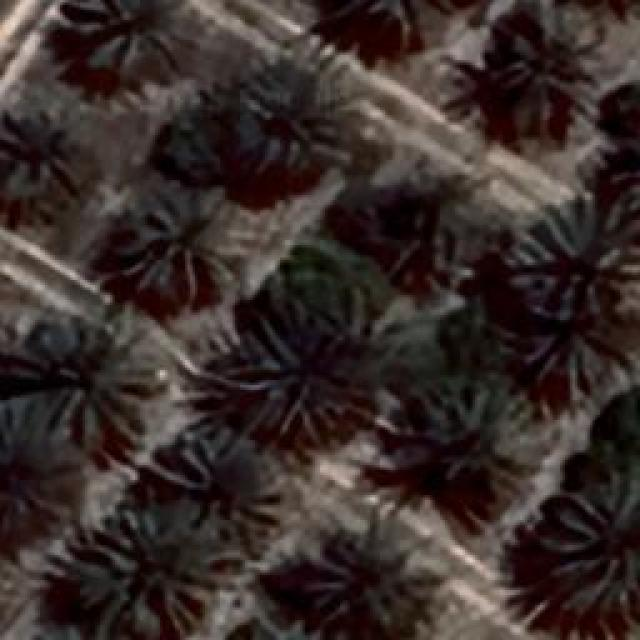PalmTree: (98, 79, 361, 586), (10, 310, 158, 448), (127, 12, 403, 79), (74, 507, 218, 635), (115, 185, 250, 300), (512, 198, 638, 320), (232, 322, 342, 442), (230, 54, 342, 168), (542, 480, 638, 608), (422, 380, 542, 482), (500, 8, 602, 110), (168, 441, 258, 544), (374, 175, 468, 273), (68, 0, 188, 65), (512, 320, 608, 398), (0, 414, 57, 530), (2, 126, 76, 212), (612, 116, 640, 240), (620, 125, 640, 238), (9, 625, 131, 640)
